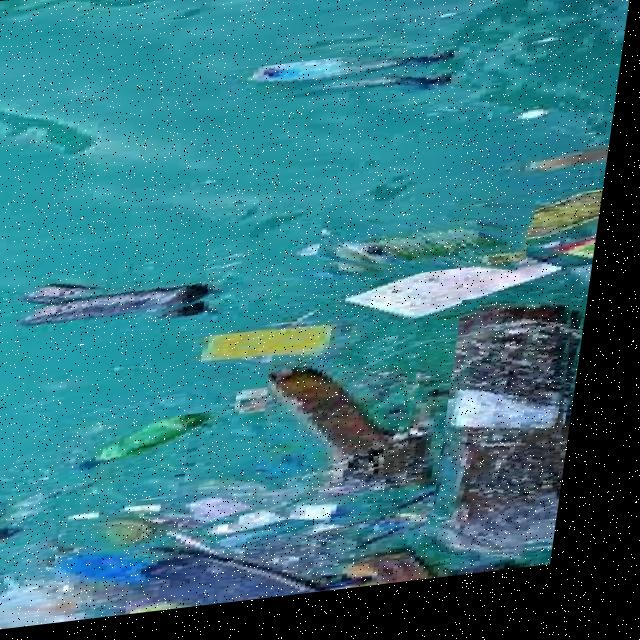plasticbottle: (18, 252, 265, 347), (324, 195, 546, 293), (223, 52, 483, 117), (63, 415, 247, 489), (0, 495, 80, 584)
wood: (443, 300, 600, 579), (269, 345, 436, 499)
